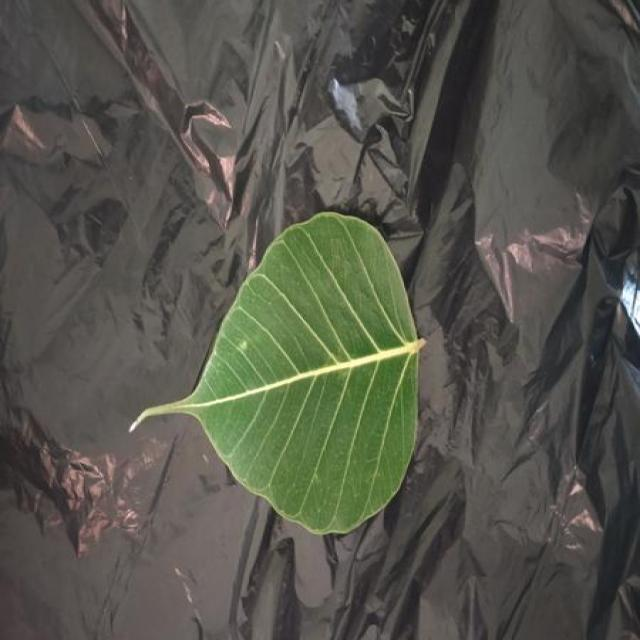arali: (128, 212, 425, 534)
